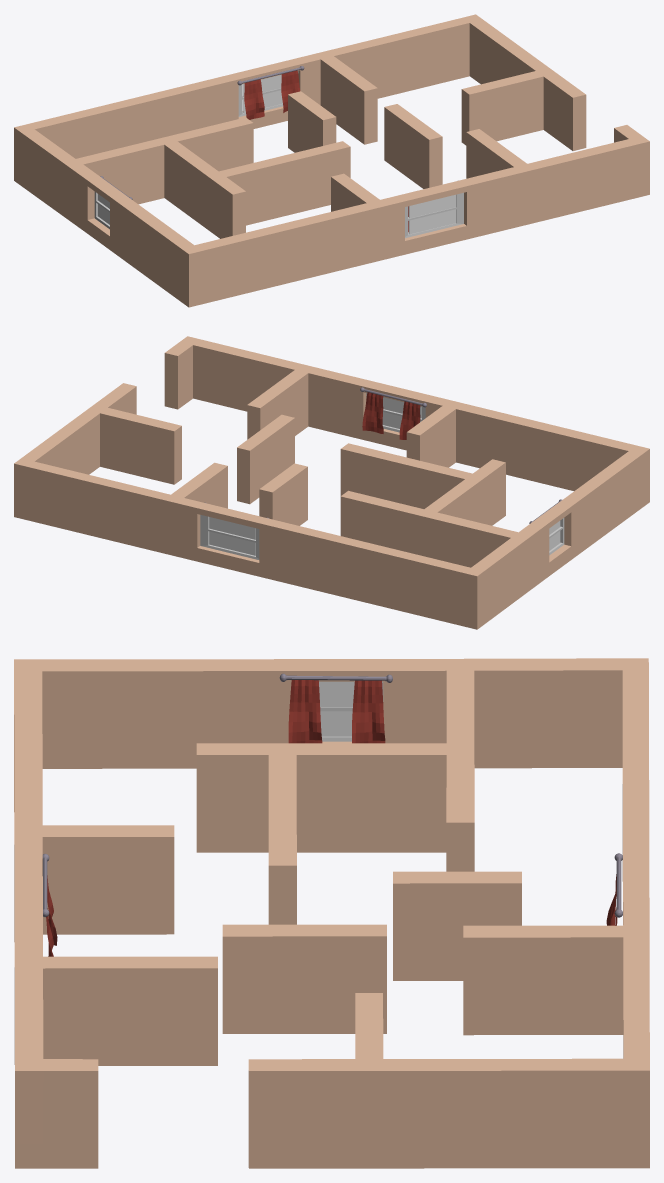
Rendered from Level 8.fbx.
3 views of the same model, one above another, from view 1: azimuth 30°, elevation 25°; view 2: azimuth 150°, elevation 25°; view 3: azimuth 270°, elevation 25° (orthographic). The views are drawn at different scales.
Visible parts, largest first — view 1: polySurface90, polySurface50, pasted__wind1, pasted__pasted__clowt1; view 2: polySurface90, pasted__wind1, polySurface50, pasted__pasted__clowt1; view 3: polySurface90, pasted__pasted__clowt1, pasted__wind1.
Part boxes in pixels (box(x1,y1,x2,y2)): polySurface90: box(14, 14, 649, 307); polySurface50: box(237, 66, 304, 119); pasted__wind1: box(405, 192, 463, 238); pasted__pasted__clowt1: box(94, 176, 132, 229); polySurface90: box(14, 336, 649, 629); pasted__wind1: box(360, 387, 426, 439); polySurface50: box(200, 502, 268, 559); pasted__pasted__clowt1: box(529, 499, 564, 555); polySurface90: box(14, 658, 649, 1168); pasted__pasted__clowt1: box(279, 673, 392, 743); pasted__wind1: box(42, 853, 57, 956).
Size of the model in its own units: 154 by 16.93 by 99.98.
